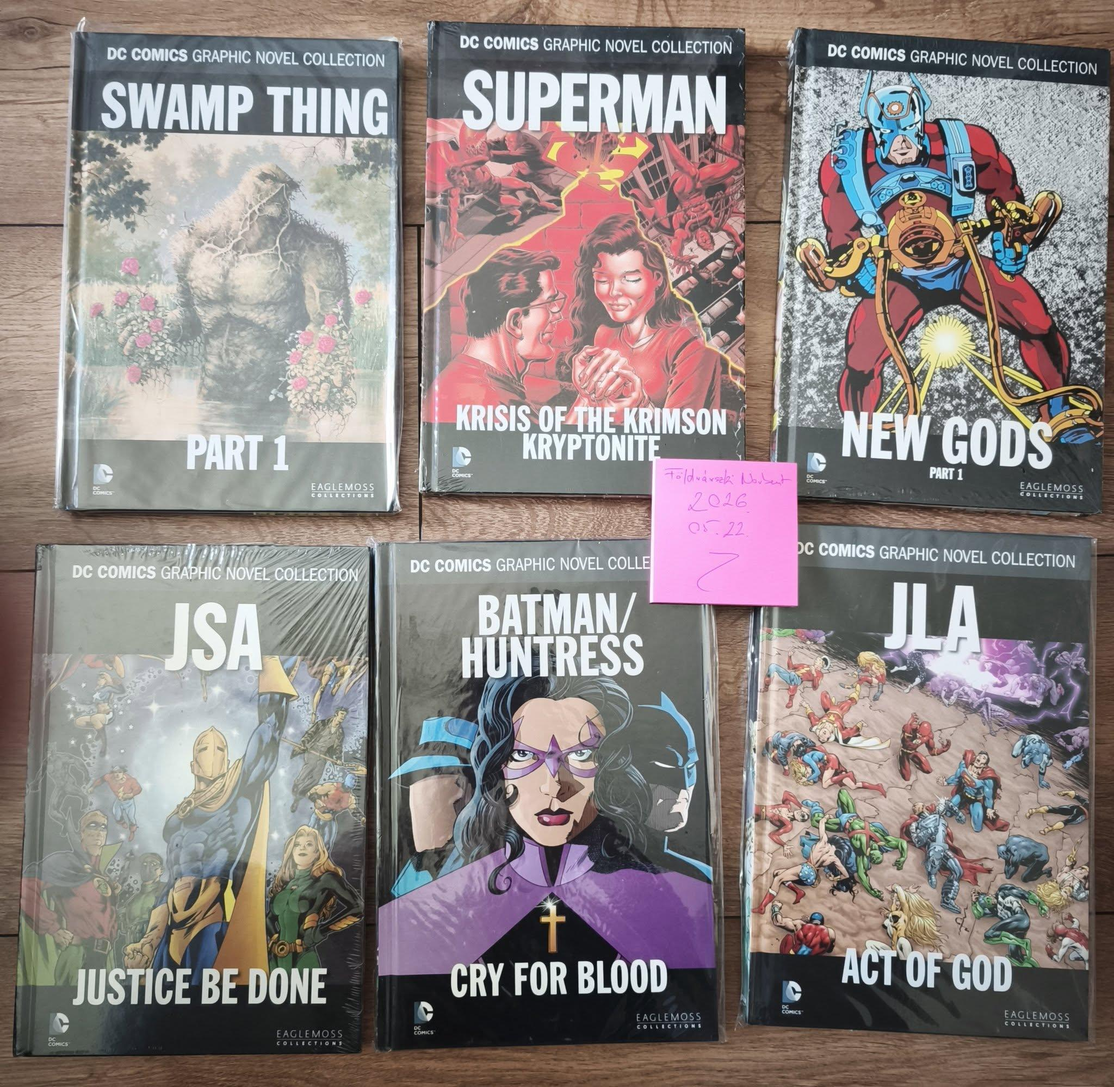comic: (13, 536, 379, 1066), (740, 524, 1100, 1041), (371, 540, 722, 1049), (58, 31, 406, 514), (770, 29, 1114, 514), (421, 22, 746, 495)
